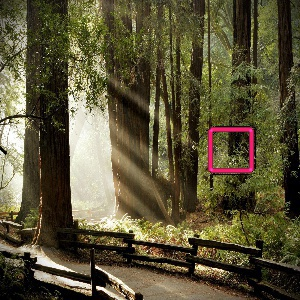square: (205, 124, 258, 177)
